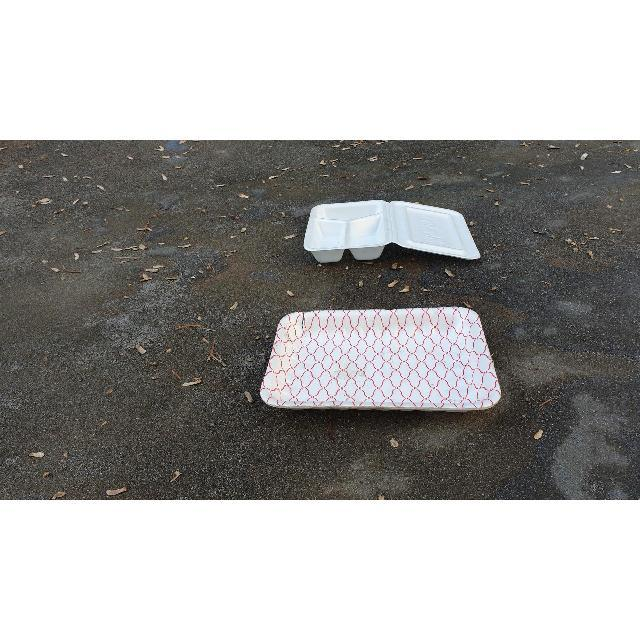Plastico descartable: (259, 307, 503, 414), (304, 200, 481, 265)
